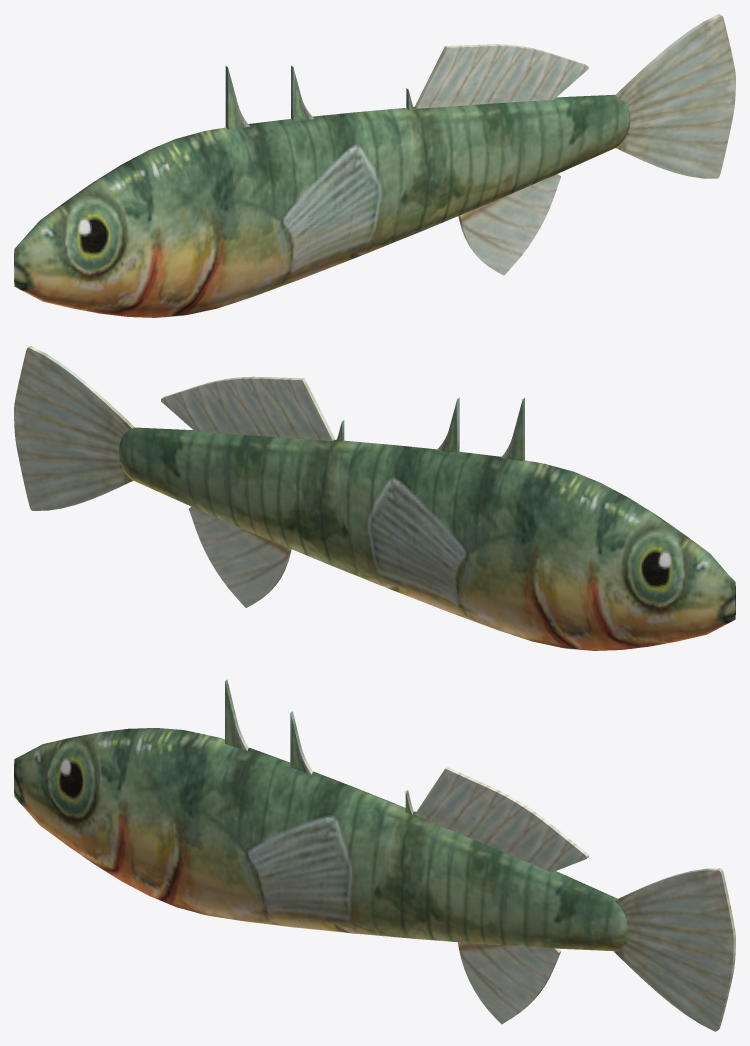
The model's file is three spined stickback.fbx.
3 renders of one model, top to bottom at view 1: azimuth 30°, elevation 25°; view 2: azimuth 150°, elevation 25°; view 3: azimuth 330°, elevation 25°, orthographic.
Visible parts, largest first — view 1: Line001, Line002, Line009, Line010, Line013, Line014; view 2: Line001, Line002, Line009, Line010, Line013, Line014; view 3: Line001, Line002, Line009, Line010, Line013, Line014.
Part boxes in pixels (x1,y1,x2,y2): Line001: [14, 94, 630, 317]; Line002: [615, 14, 735, 178]; Line009: [414, 44, 588, 108]; Line010: [458, 174, 560, 275]; Line013: [225, 66, 249, 129]; Line014: [291, 65, 314, 121]; Line001: [119, 427, 735, 650]; Line002: [14, 346, 134, 510]; Line009: [161, 376, 335, 441]; Line010: [189, 506, 291, 607]; Line013: [501, 398, 524, 461]; Line014: [436, 397, 459, 452]; Line001: [14, 728, 627, 951]; Line002: [614, 868, 735, 1031]; Line009: [414, 767, 588, 872]; Line010: [457, 942, 561, 1024]; Line013: [225, 679, 248, 751]; Line014: [290, 711, 312, 775].
Size of the model in its own units: 1059 by 388 by 96.92.
Materials: 4 (4 with a texture image).
